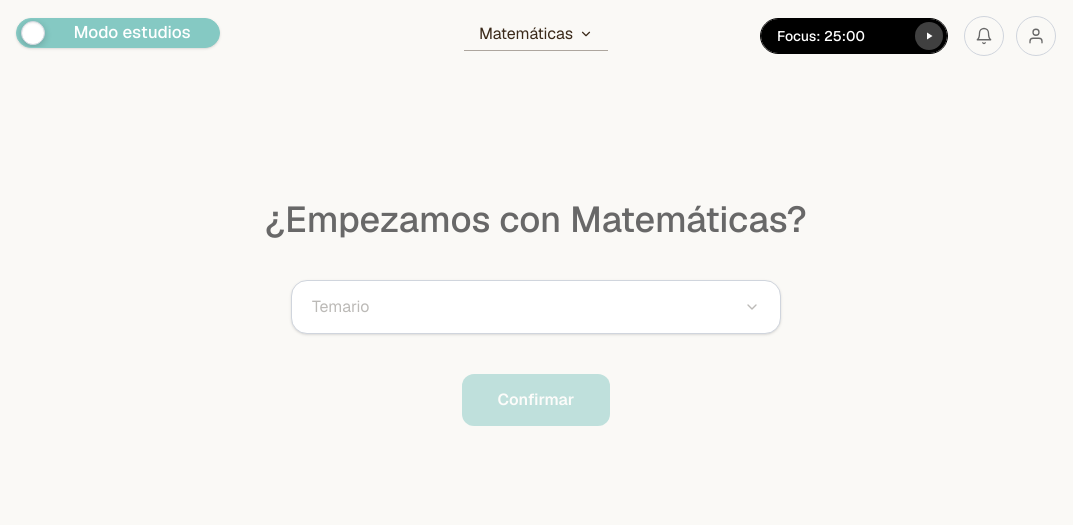
Test case: Chat — stage de seleção de tópico › should return to the topic stage from the chat via Cambiar temario
Click the button with aria-label "Seleccionar tema" at (341,306), box left=291, top=280, right=781, bottom=334
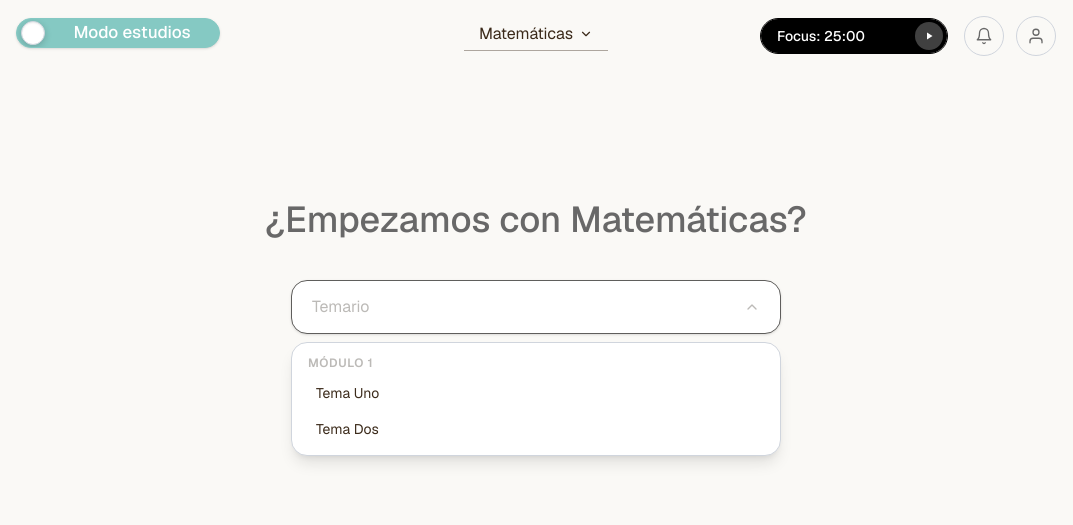
Click the button "Tema Uno" at (348,393), box left=292, top=375, right=780, bottom=411
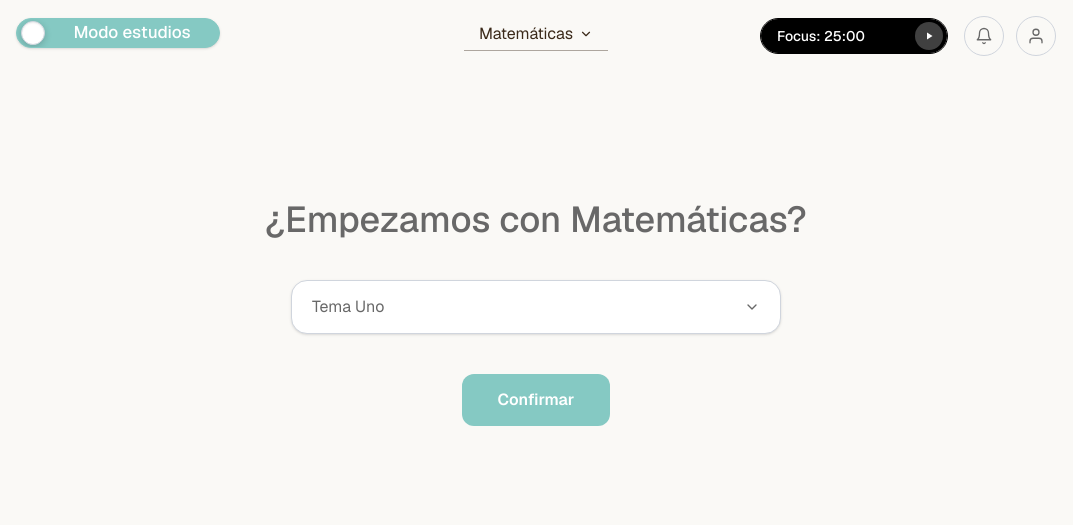
Click the button "Confirmar" at (536,400), box left=462, top=374, right=610, bottom=426
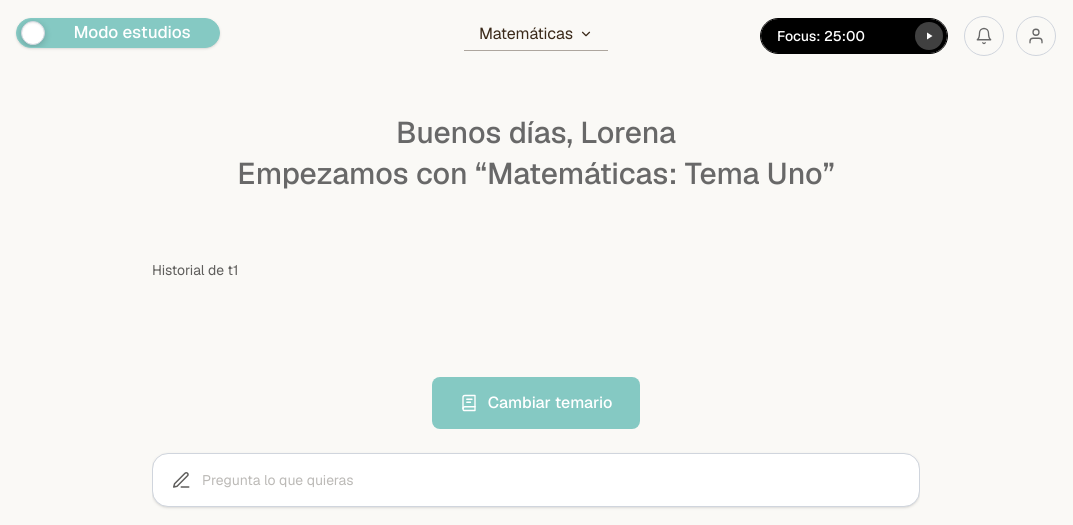
Check: the text "Historial de t1" is shown, box left=152, top=260, right=238, bottom=278
Click the button "Cambiar temario" at (536,403), box left=432, top=377, right=640, bottom=429
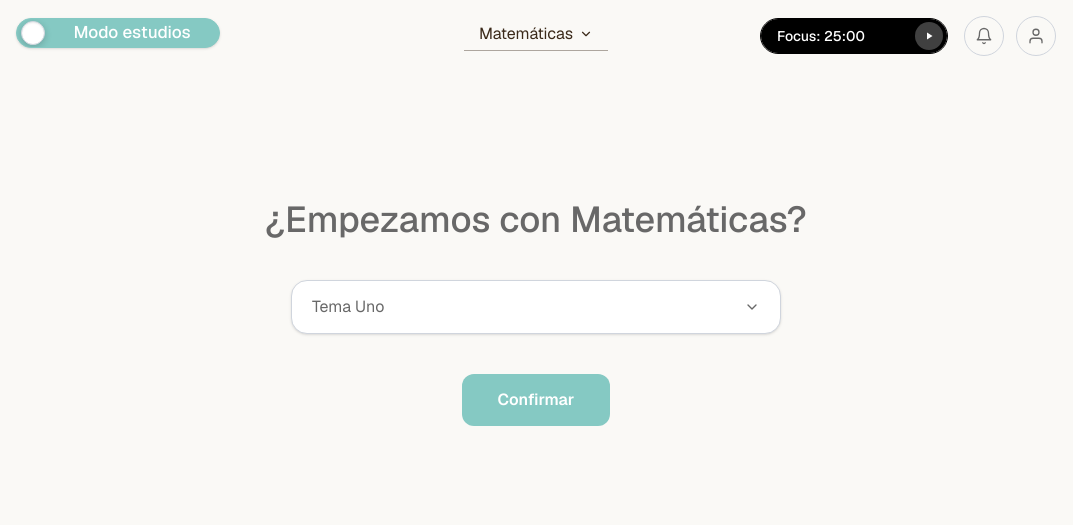
Check: the heading "¿Empezamos con Matemáticas?" is shown, box left=265, top=200, right=807, bottom=240
Check: the text "Historial de t1" is gone
